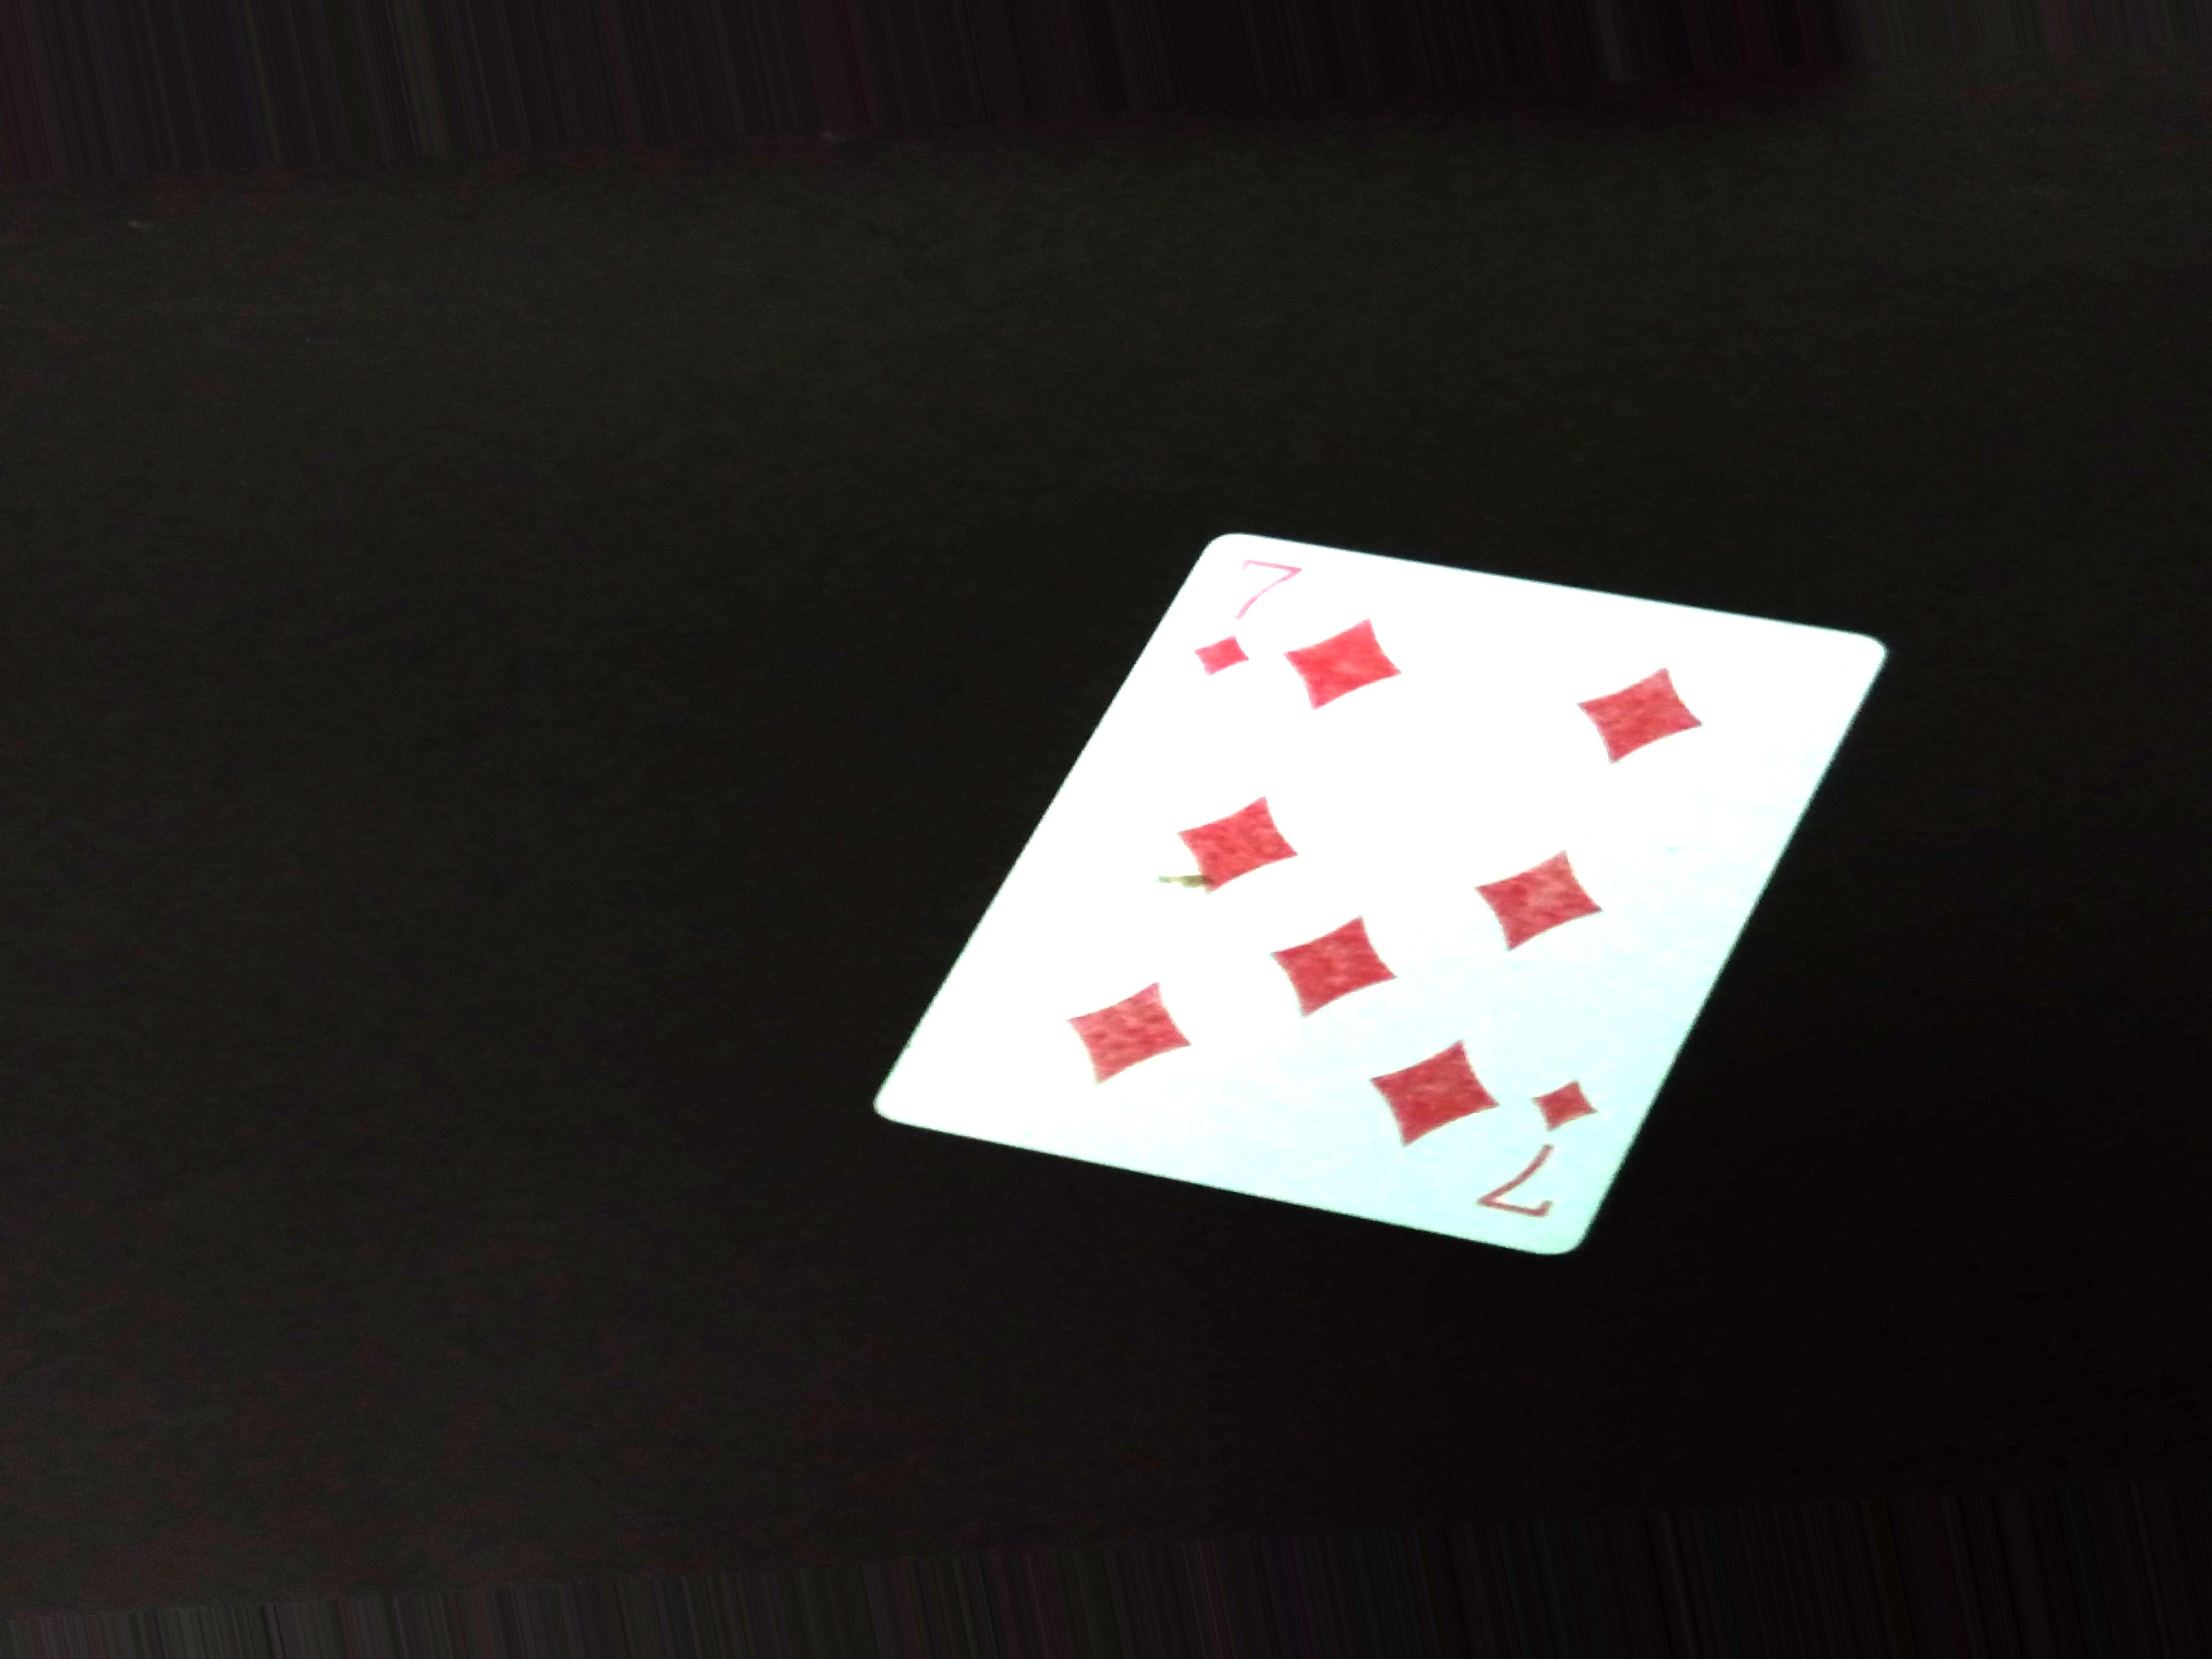7D: (1183, 530, 1320, 690)
